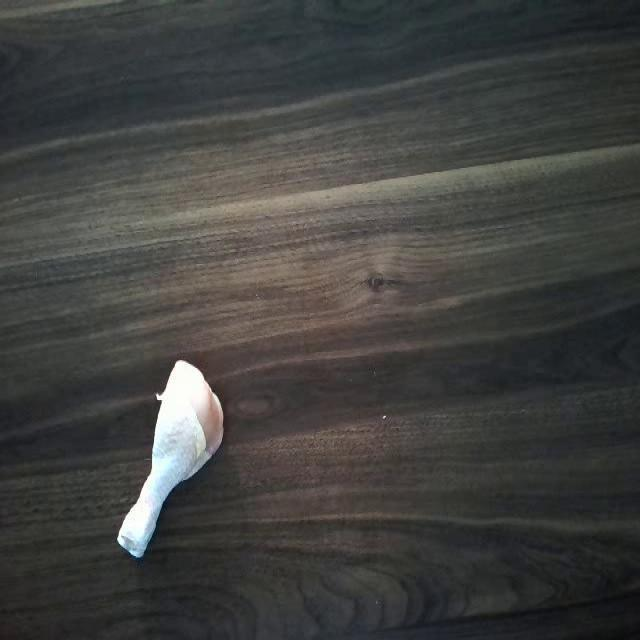leg: (112, 358, 226, 558)
